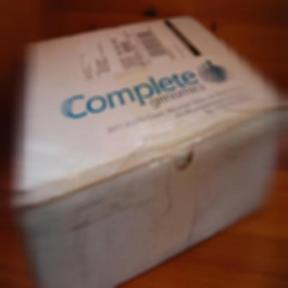box: (19, 27, 286, 288)
